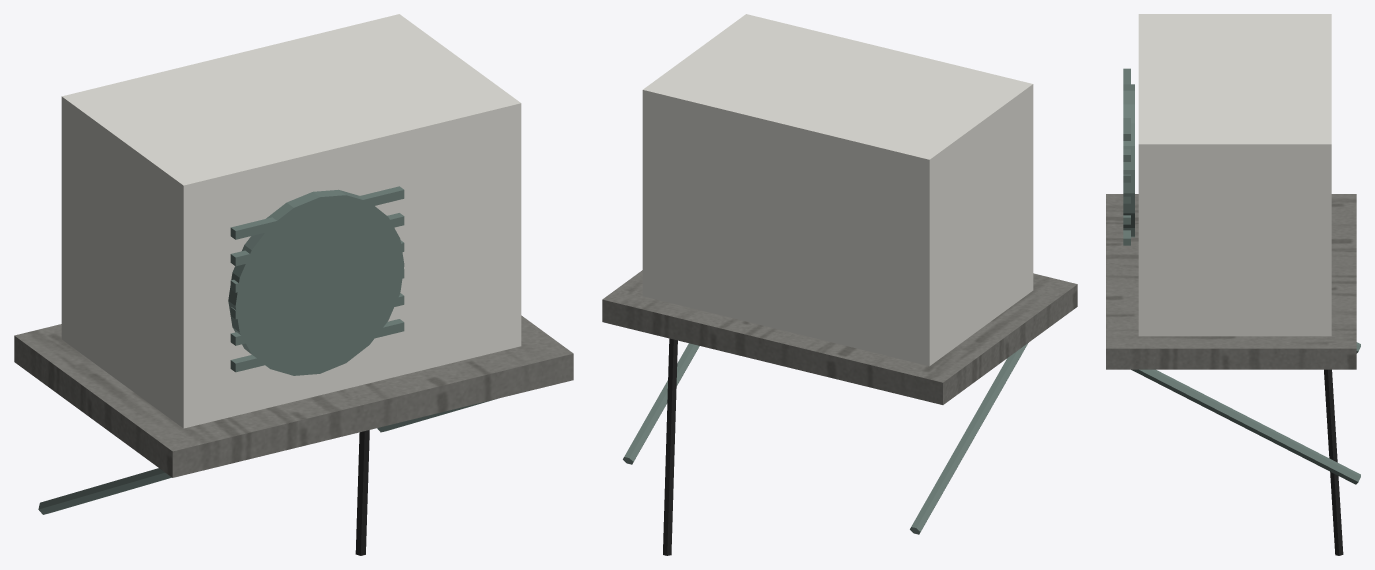
Rendered from ac_unit.glb.
The picture shows the model from 3 angles, left to right: view 1: azimuth 30°, elevation 25°; view 2: azimuth 150°, elevation 25°; view 3: azimuth 270°, elevation 25°; orthographic projection. The views are drawn at different scales.
Visible parts, largest first — view 1: ac_unit; view 2: ac_unit; view 3: ac_unit.
Part boxes in pixels (box(x1,y1,x2,y2)): ac_unit: box(14, 14, 573, 555); ac_unit: box(602, 14, 1077, 555); ac_unit: box(1106, 14, 1360, 555).
Size of the model in its own units: 0.95 by 1.21 by 0.6614.
Materials: 5 (1 with a texture image).
